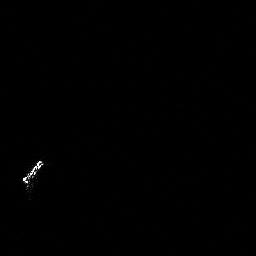ship: (22, 159, 45, 195)
